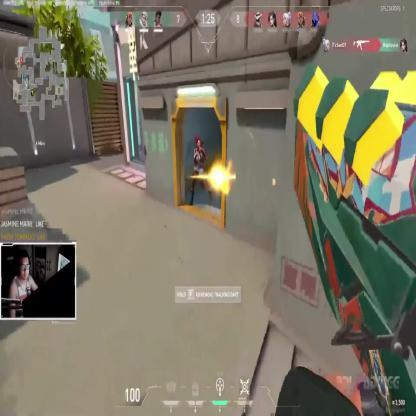enemy: (189, 135, 211, 207)
enemy_head: (196, 136, 203, 150)
